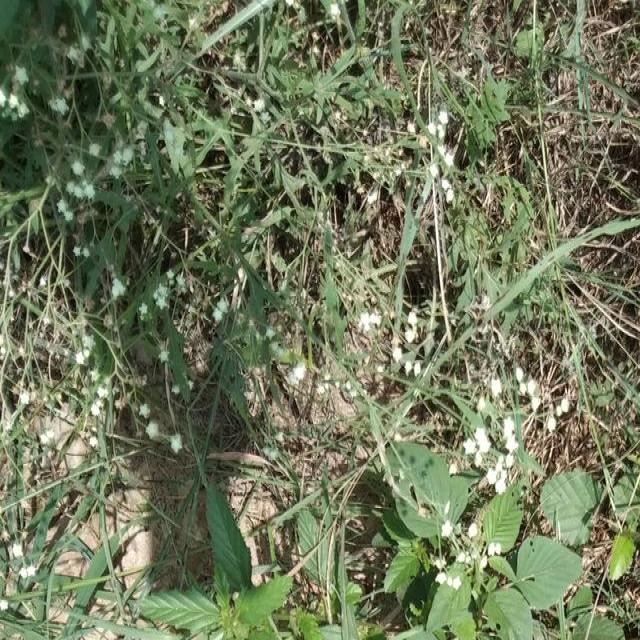weed: (288, 140, 581, 473), (12, 49, 213, 439), (403, 451, 568, 634), (137, 533, 305, 640)
